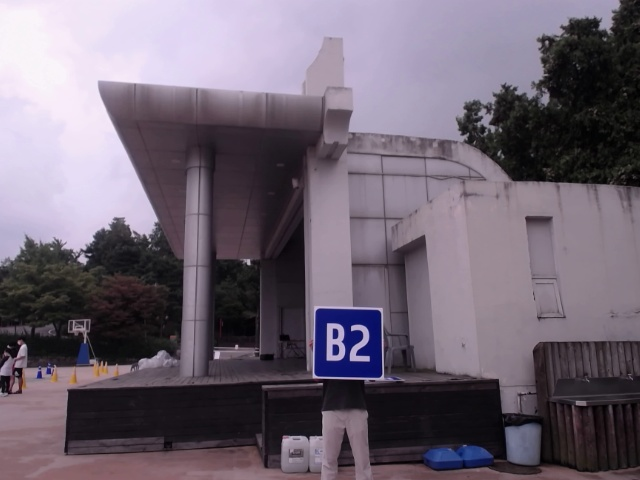delivery_b2: (315, 306, 382, 379)
